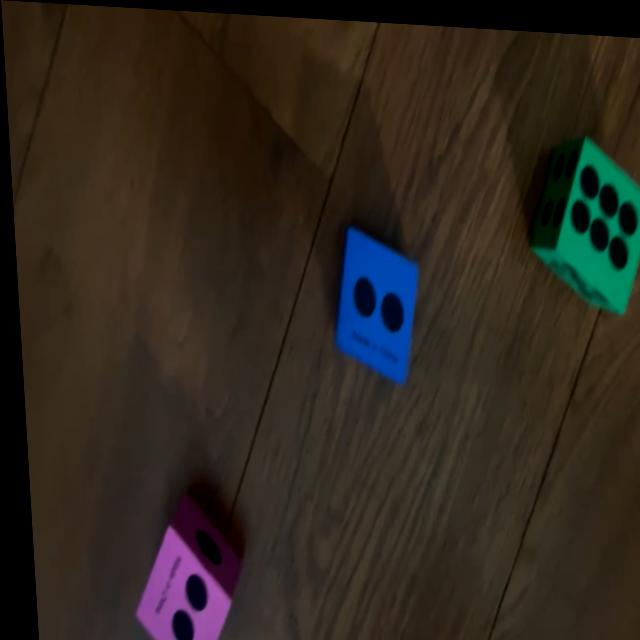cube: (524, 127, 640, 309), (325, 224, 418, 380)
